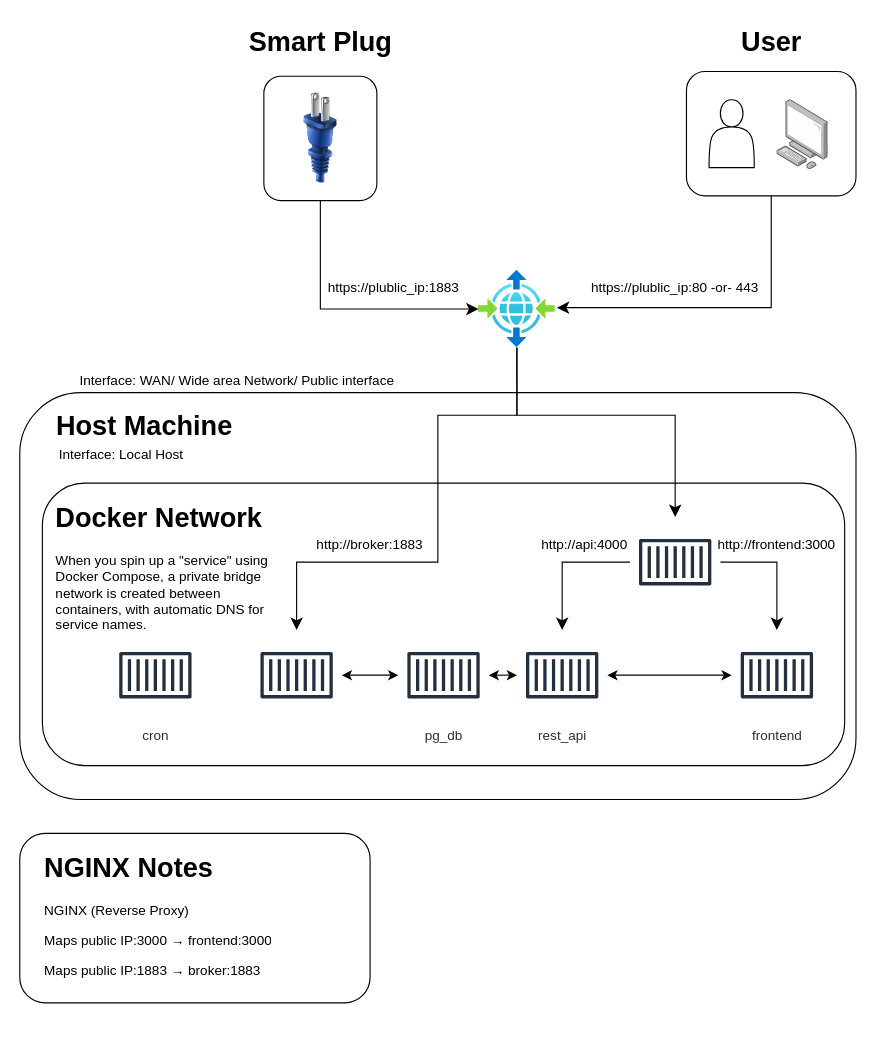
Some shapes in this 876 by 1059 pixel diagram are drawn without their labels. The shapes that lost their labels are listed below. From the top down, each one's box as (x1, y1, x2, y2) in pixels, then its label:
(629, 516, 720, 607): NGINX
(250, 629, 342, 720): broker_mqtt (Pub/Sub)
